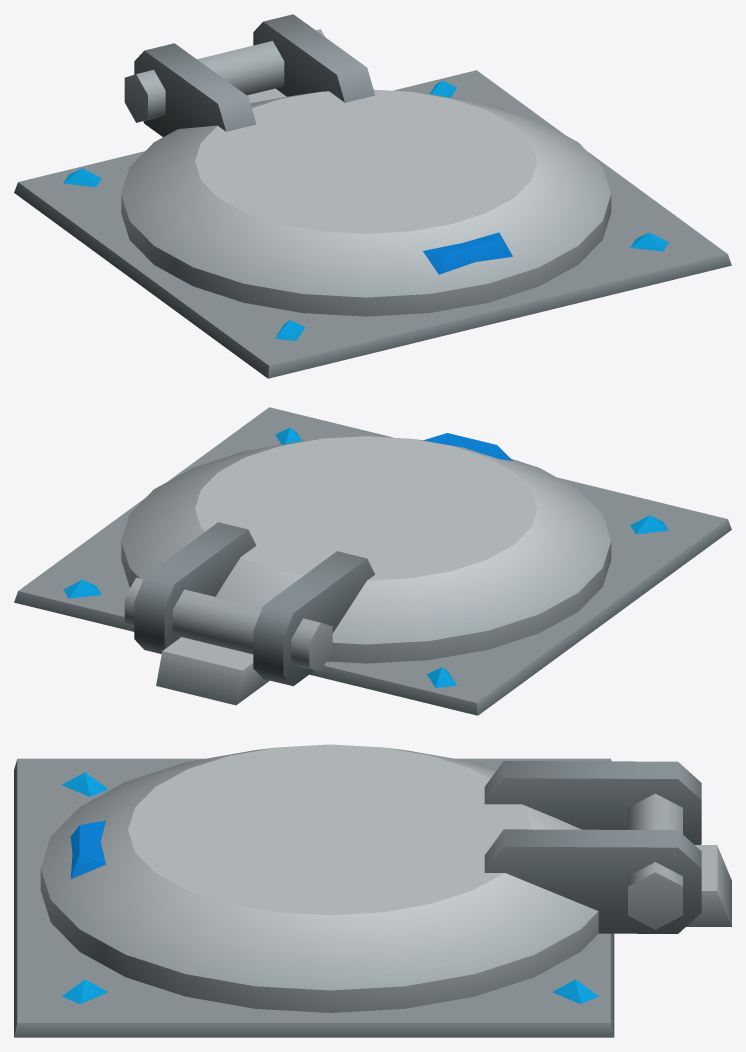
The model's file is Hatch_001.glb.
3 views of the same model, one above another, from view 1: azimuth 30°, elevation 25°; view 2: azimuth 150°, elevation 25°; view 3: azimuth 270°, elevation 25° (orthographic). The views are drawn at different scales.
Visible parts, largest first — view 1: Hatch_001; view 2: Hatch_001; view 3: Hatch_001.
Part boxes in pixels (bbox=[...]): Hatch_001: bbox=[14, 14, 731, 378]; Hatch_001: bbox=[14, 407, 731, 715]; Hatch_001: bbox=[14, 744, 731, 1037].
Size of the model in its own units: 0.8747 by 0.1728 by 0.9925.
Materials: 2 (2 with a texture image).
